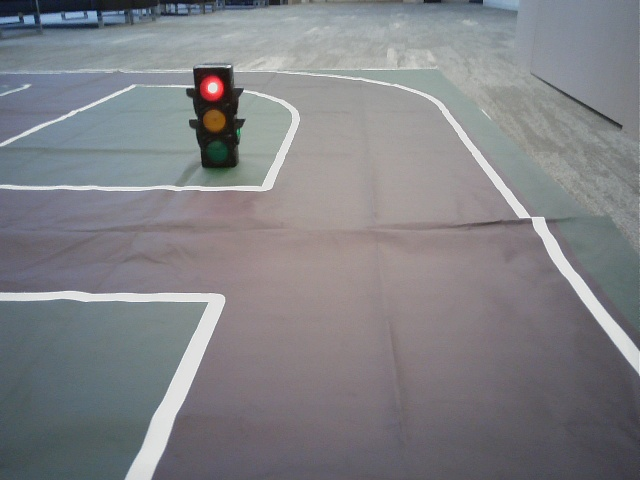red: (197, 71, 229, 166)
